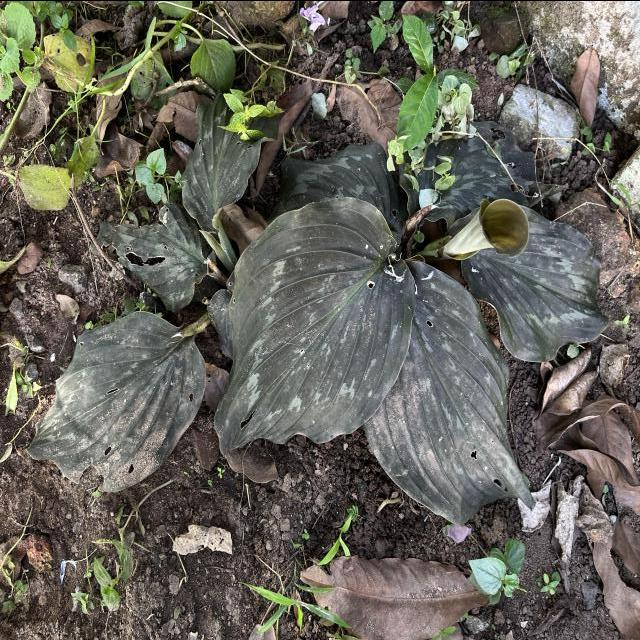Kaempferia galanga linn: (212, 195, 418, 458), (361, 255, 538, 528), (23, 309, 209, 494)
